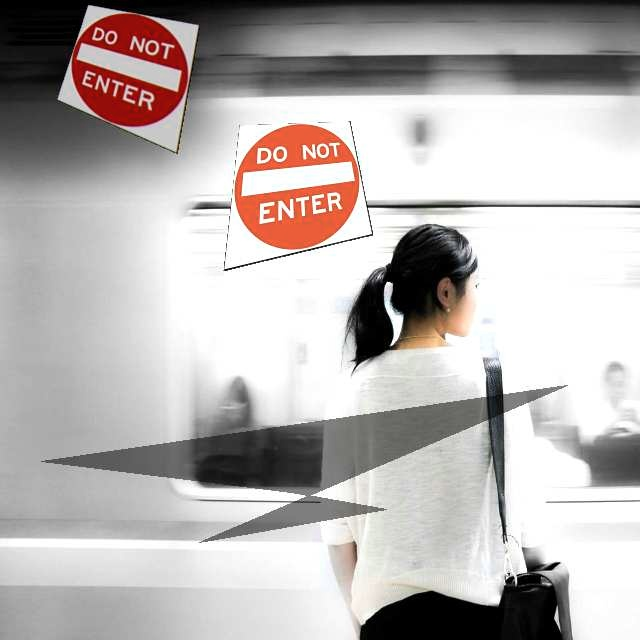DO_NOT_ENTER: (223, 121, 373, 271), (56, 4, 200, 154)
